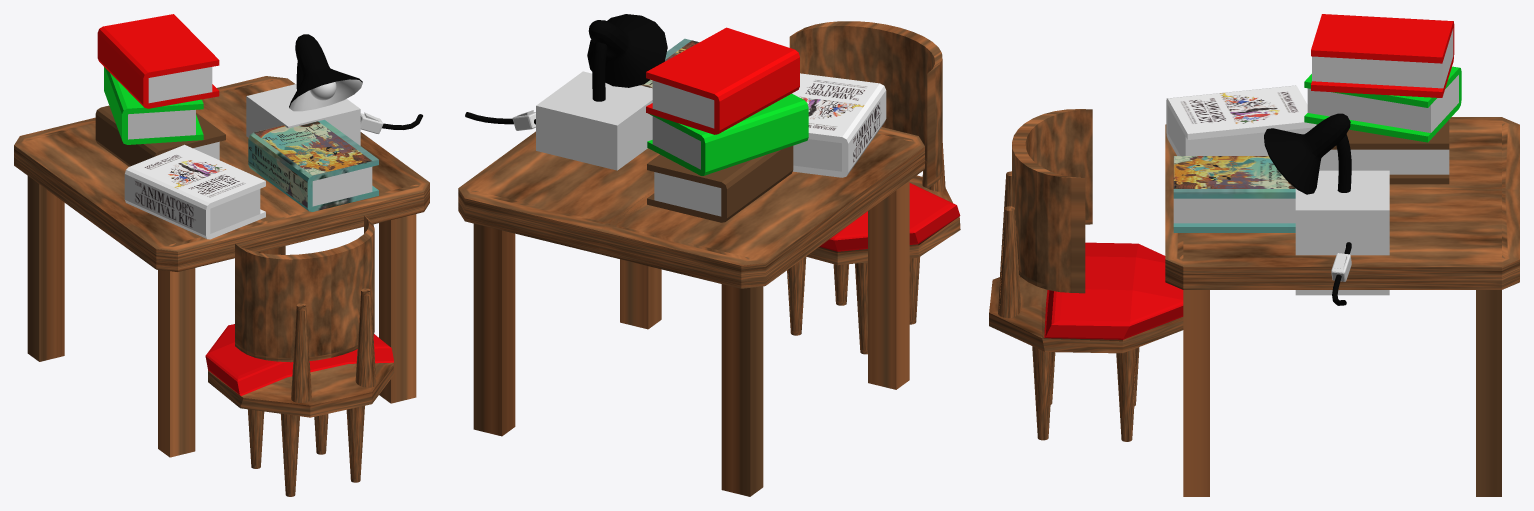
The model's file is LIBRERTIA.glb.
3 views of the same model, side by side, from view 1: azimuth 30°, elevation 25°; view 2: azimuth 150°, elevation 25°; view 3: azimuth 270°, elevation 25° (orthographic). The views are drawn at different scales.
Parts seen in each view (by area): view 1: Cube.001, Chair, Book.003, Book.004, Book.002, Book.001, Cube, Book, Head; view 2: Cube.001, Chair, Book.002, Cube, Book.003, Book.001, Book, Head, Arm; view 3: Cube.001, Chair, Book.002, Book.004, Book.003, Cube, Book.001, Book, Head, Arm.
Part boxes in pixels (x1=…): Cube.001: x1=14, y1=76, x2=429, y2=457; Chair: x1=205, y1=215, x2=394, y2=496; Book.003: x1=124, y1=144, x2=265, y2=239; Book.004: x1=248, y1=119, x2=378, y2=211; Book.002: x1=97, y1=14, x2=219, y2=108; Book.001: x1=104, y1=67, x2=203, y2=144; Cube: x1=246, y1=84, x2=360, y2=145; Book: x1=95, y1=105, x2=225, y2=166; Head: x1=289, y1=34, x2=362, y2=111; Cube.001: x1=458, y1=127, x2=924, y2=496; Chair: x1=787, y1=21, x2=960, y2=354; Book.002: x1=646, y1=27, x2=799, y2=134; Cube: x1=536, y1=71, x2=652, y2=170; Book.003: x1=792, y1=73, x2=886, y2=177; Book.001: x1=647, y1=93, x2=808, y2=175; Book: x1=647, y1=146, x2=793, y2=222; Head: x1=587, y1=14, x2=667, y2=87; Arm: x1=592, y1=42, x2=607, y2=101; Cube.001: x1=1165, y1=117, x2=1519, y2=496; Chair: x1=989, y1=109, x2=1183, y2=441; Book.002: x1=1311, y1=14, x2=1454, y2=97; Book.004: x1=1173, y1=156, x2=1295, y2=232; Book.003: x1=1166, y1=85, x2=1316, y2=155; Cube: x1=1295, y1=170, x2=1389, y2=295; Book.001: x1=1304, y1=66, x2=1461, y2=142; Book: x1=1316, y1=120, x2=1449, y2=184; Head: x1=1264, y1=113, x2=1350, y2=194; Arm: x1=1336, y1=134, x2=1351, y2=192.
Bounding box in the file's own units: 9.33 × 8.9 × 11.31.
Materials: 12 (3 with a texture image).
